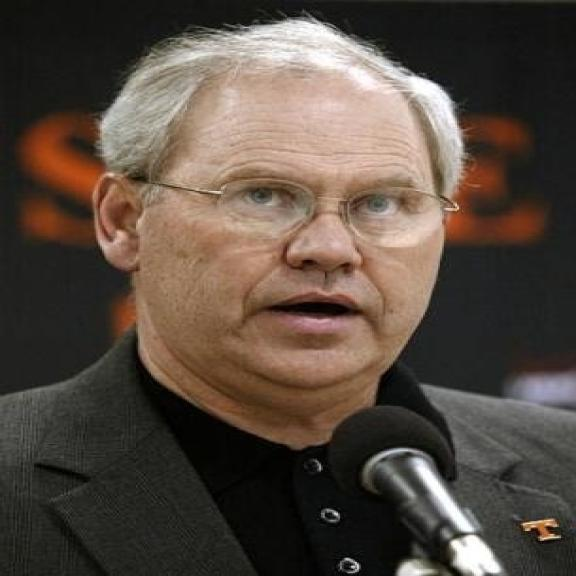face: (83, 57, 452, 407)
